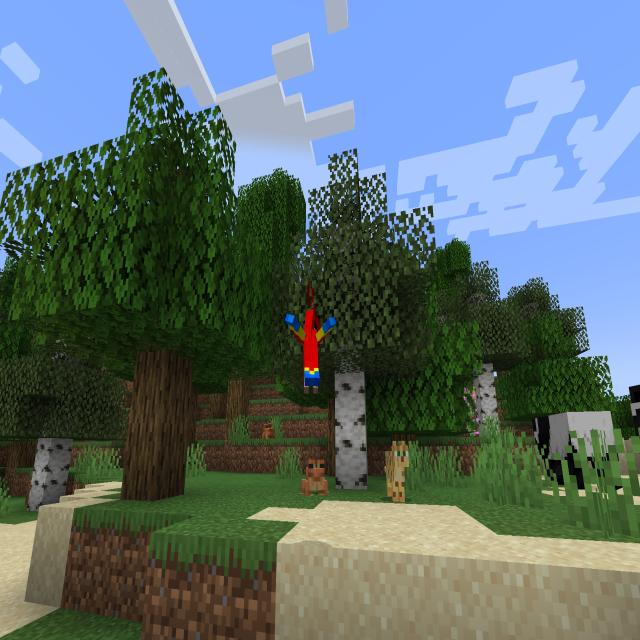Ocelot: (383, 438, 409, 506)
Panda: (530, 404, 622, 495)
